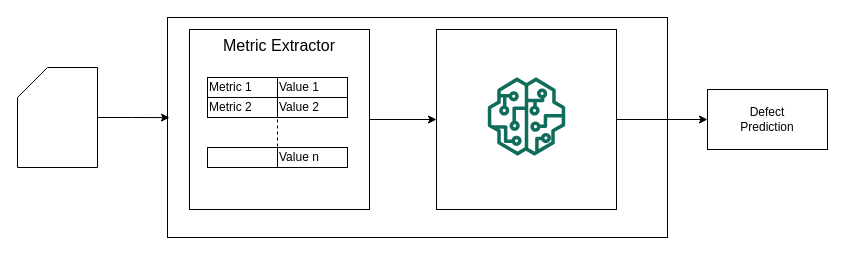
Some shapes in this 845 by 255 pixel diagram are drawn without their labels. The box of each missing label's shape, as (x1, y1, x2, y2) in pixels:
Ansible File: (16, 66, 98, 168)
Metric n: (206, 146, 278, 168)
Naive Bayes Model: (436, 28, 616, 210)
